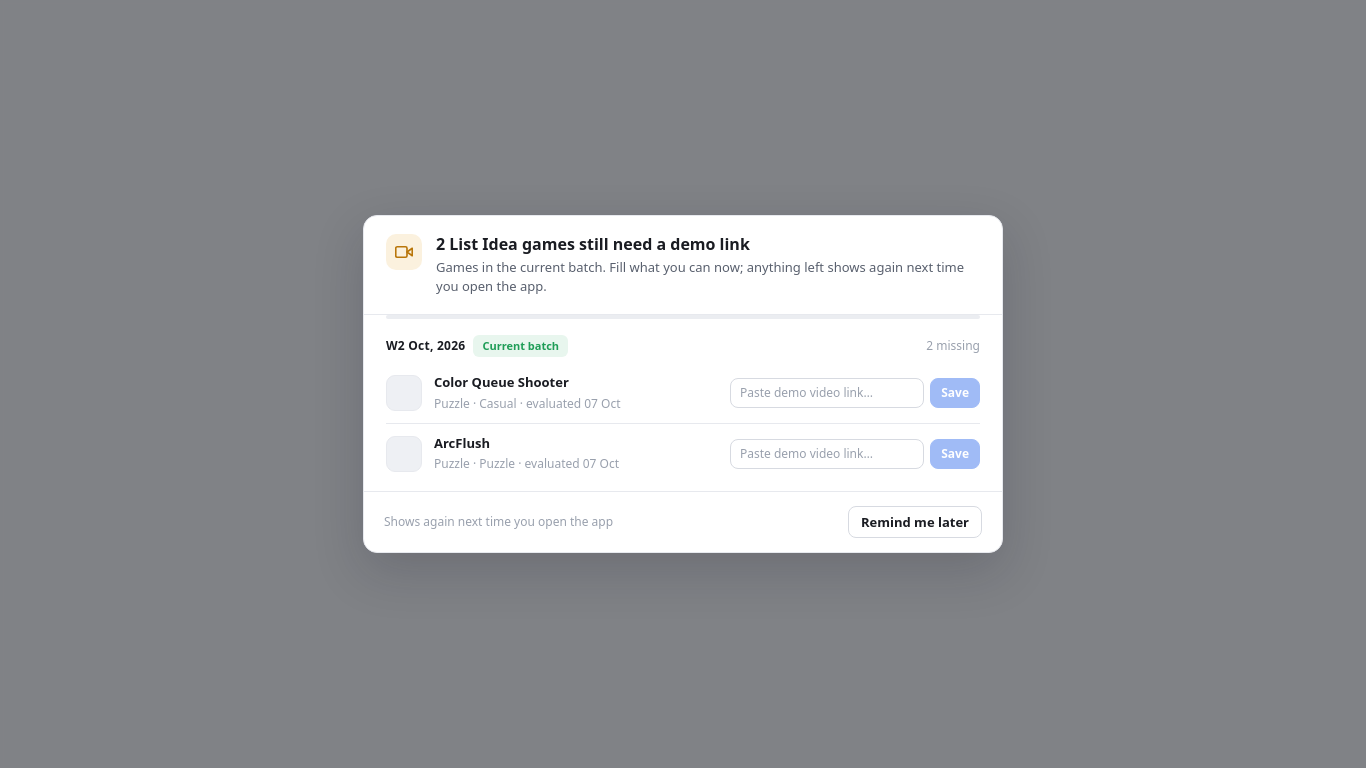
Test: MissingDemoPrompt › saves the link with PATCH and removes the row, accepting any text
This screenshot has width=1366, height=768.
expect the dialog is shown: met, box [363,215,1003,553]
In the field with placeholder "Paste demo video link…" next to "Puzzle · Casual · evaluated 07 Oct": coordinates (827, 393) [730,378,924,408], type "  drive.google.com/abc  "
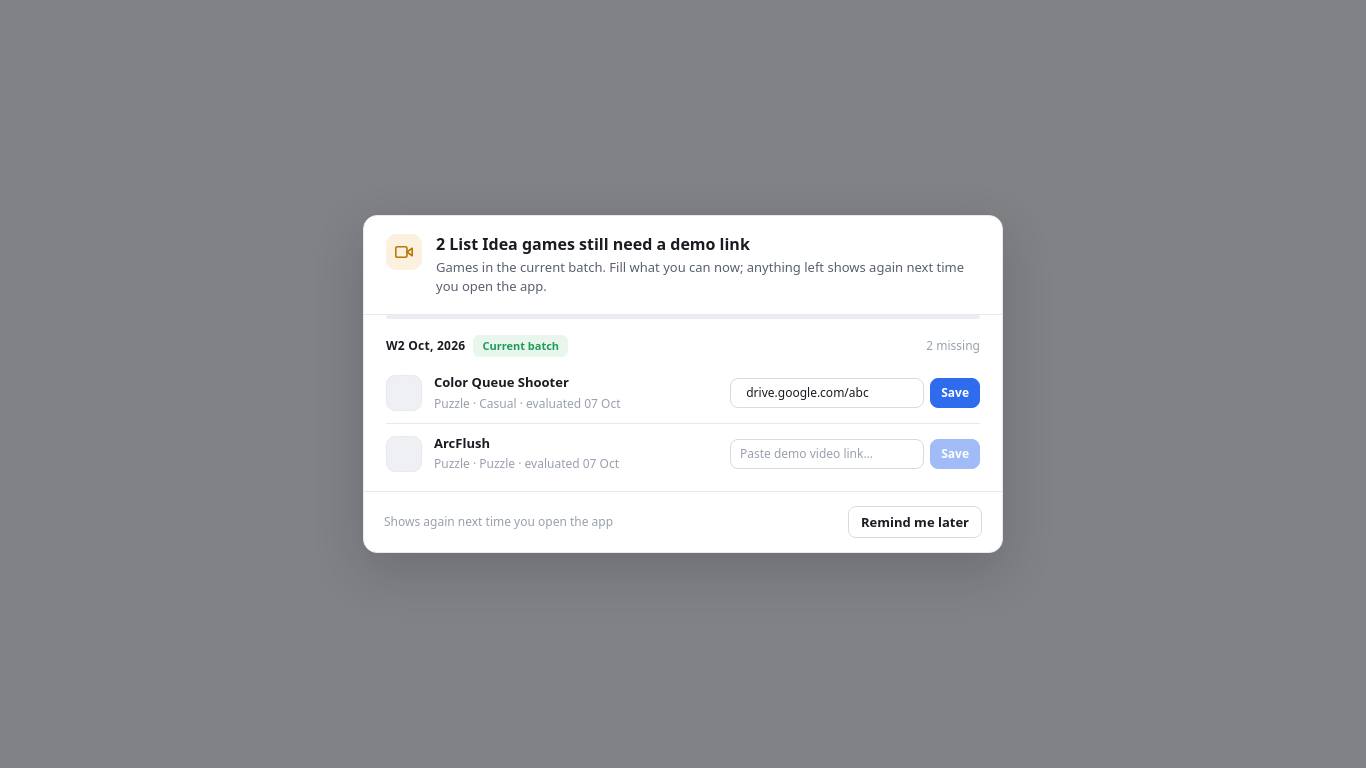
Click the button with aria-label "Save demo link for ": coordinates (955, 393) [930,378,980,408]
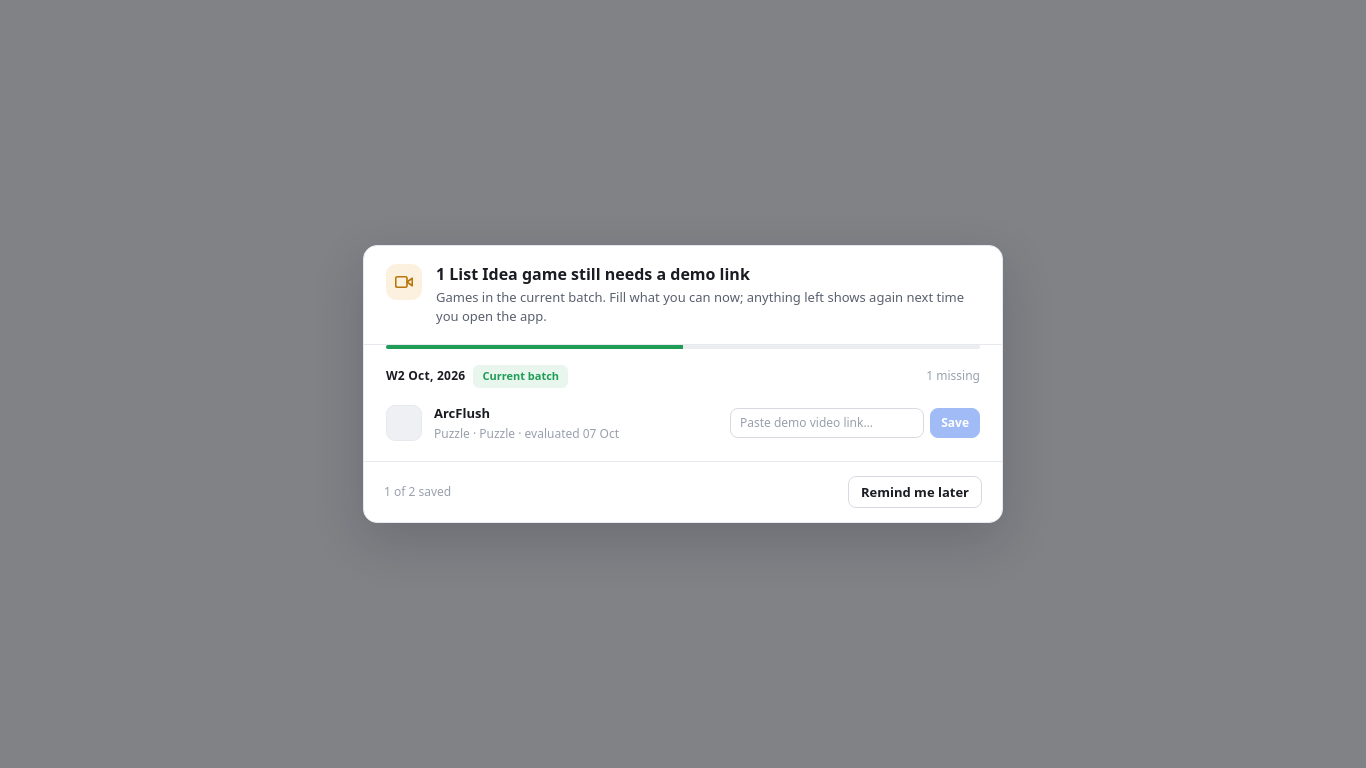
expect the text "Color Queue Shooter" is gone: met
expect the dialog shows "1 List Idea game still needs a demo link": met, box [363,245,1003,523]
